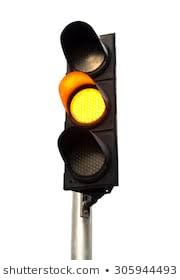amber: (56, 19, 126, 195), (62, 27, 121, 188), (66, 34, 112, 183)
